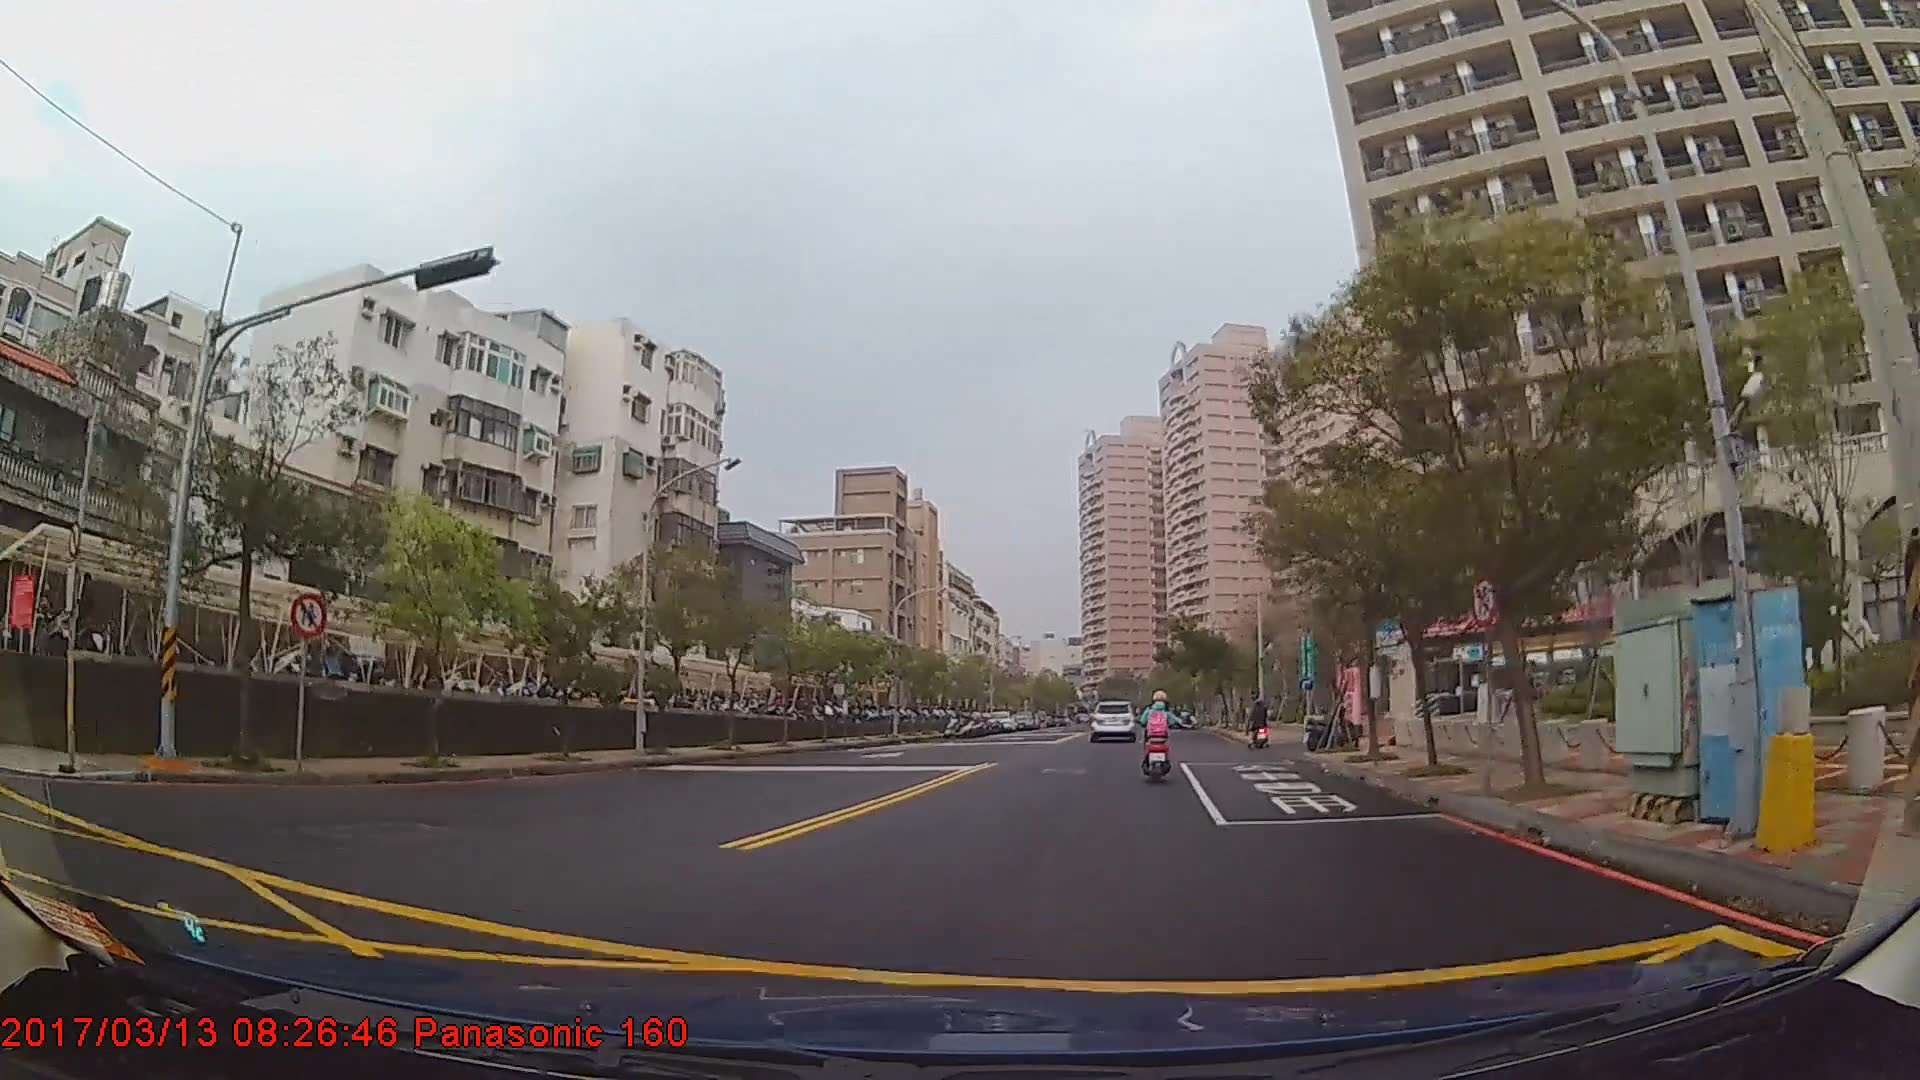rider: (1137, 694, 1186, 779), (1249, 699, 1271, 747)
vehicle: (1088, 698, 1136, 740)
